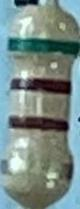Brown: (5, 112, 69, 133), (9, 75, 71, 96)
Green: (7, 36, 79, 57)
Side-Silver: (2, 158, 74, 179)
